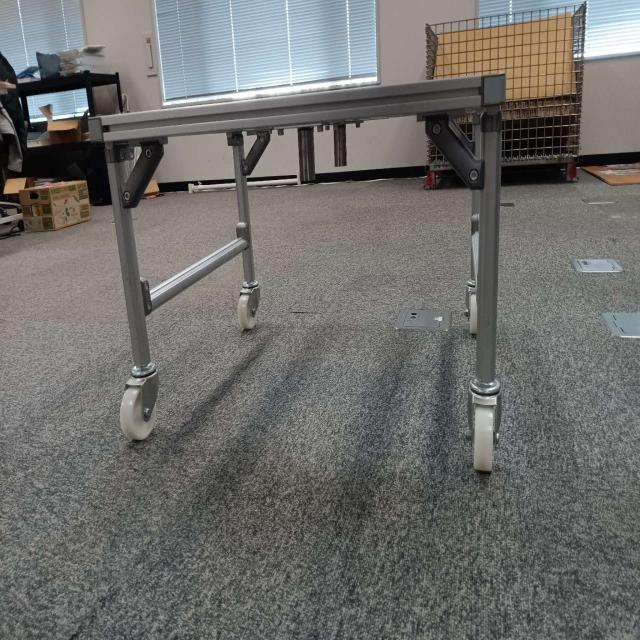door: (94, 79, 501, 209)
